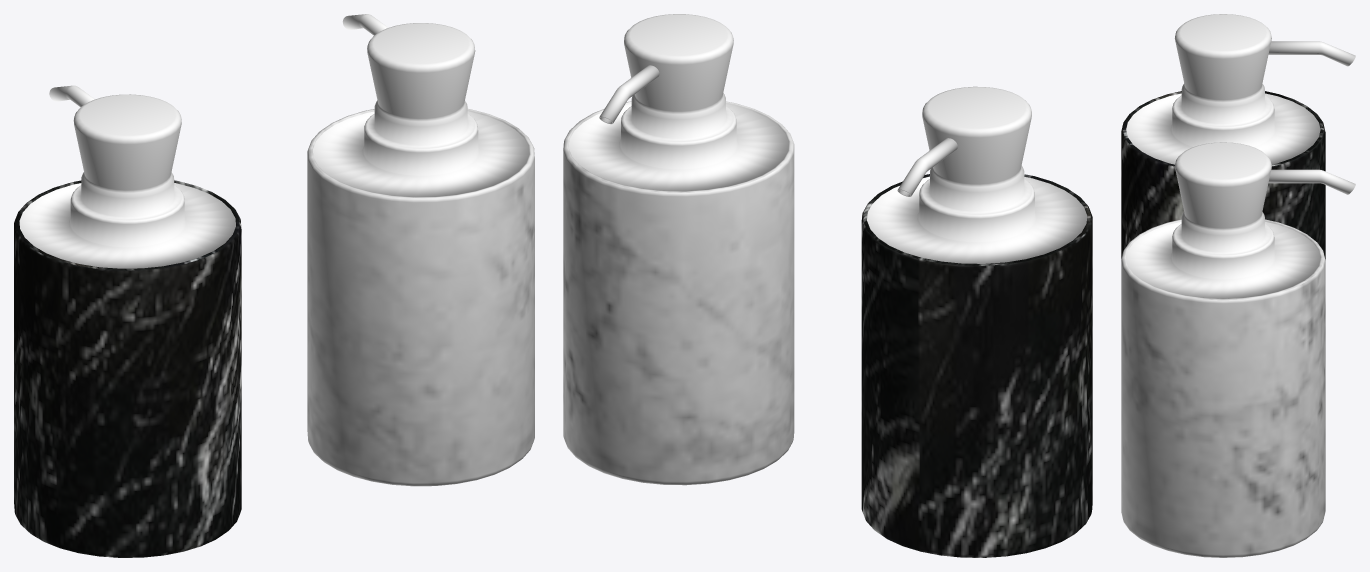
File: soap.glb
3 views of the same model, side by side, from view 1: azimuth 30°, elevation 25°; view 2: azimuth 150°, elevation 25°; view 3: azimuth 270°, elevation 25° (orthographic). The views are drawn at different scales.
Visible parts, largest first — view 1: Cylinder_1, Cylinder.001_2; view 2: Cylinder.001_2, Cylinder_1, Cylinder.002_3, Cylinder.003_4; view 3: Cylinder_1, Cylinder.001_2, Cylinder.002_3, Cylinder.003_4.
Part boxes in pixels (x1,y1,x2,y2): Cylinder_1: (307, 23, 534, 486); Cylinder.001_2: (14, 94, 241, 557); Cylinder.001_2: (861, 86, 1092, 557); Cylinder_1: (563, 14, 794, 485); Cylinder.002_3: (599, 65, 659, 124); Cylinder.003_4: (897, 138, 957, 196); Cylinder_1: (1121, 142, 1325, 557); Cylinder.001_2: (1121, 14, 1325, 259); Cylinder.002_3: (1268, 169, 1355, 194); Cylinder.003_4: (1268, 41, 1355, 66).
Size of the model in its own units: 4.97 by 3.84 by 2.3.
Materials: 3 (2 with a texture image).
